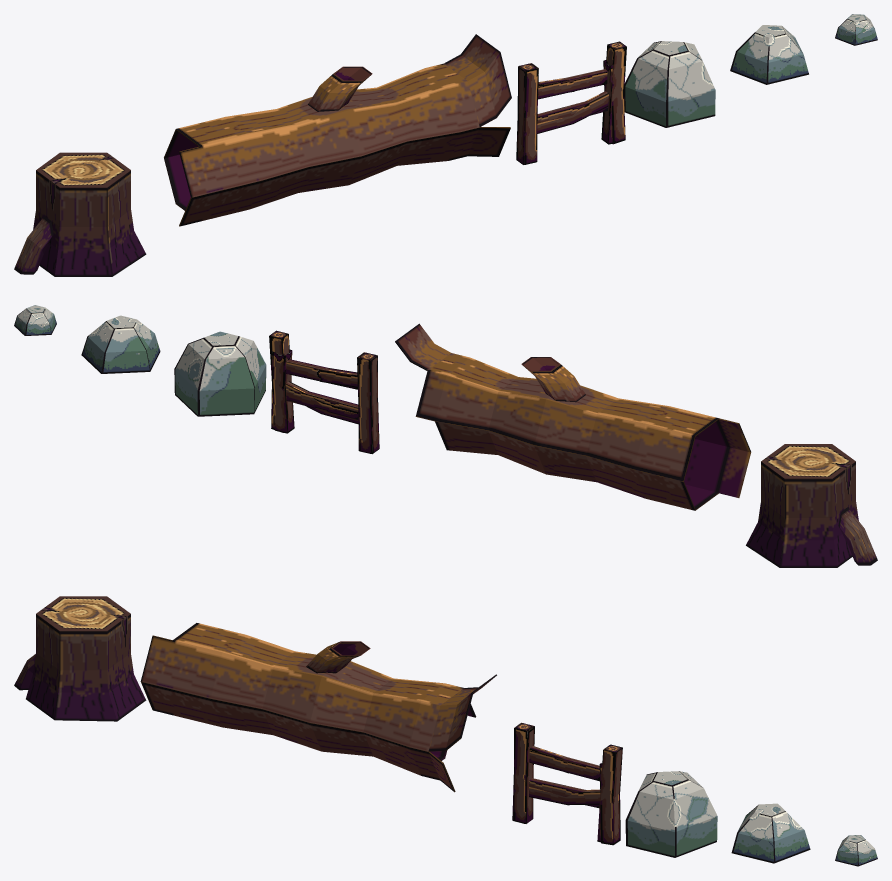
Rendered from AssetsPantano.fbx.
3 views of the same model, one above another, from view 1: azimuth 30°, elevation 25°; view 2: azimuth 150°, elevation 25°; view 3: azimuth 330°, elevation 25° (orthographic).
Visible parts, largest first — view 1: T 2.001, 1.001, R.B. Alta.001, Valla 3.002, R.B. Mediana.001, Valla muestra.001, R.B. Pequeña.001; view 2: T 2.001, 1.001, R.B. Alta.001, Valla 3.002, R.B. Mediana.001, Valla muestra.001, R.B. Pequeña.001; view 3: T 2.001, 1.001, R.B. Alta.001, Valla 3.002, R.B. Mediana.001, Valla muestra.001, R.B. Pequeña.001.
Part boxes in pixels (x1,y1,x2,y2): T 2.001: (164, 34, 511, 226); 1.001: (14, 152, 146, 276); R.B. Alta.001: (624, 41, 715, 127); Valla 3.002: (517, 41, 626, 164); R.B. Mediana.001: (730, 25, 808, 84); Valla muestra.001: (516, 60, 625, 164); R.B. Pequeña.001: (835, 14, 877, 45); T 2.001: (395, 323, 751, 510); 1.001: (746, 444, 877, 567); R.B. Alta.001: (174, 331, 266, 416); Valla 3.002: (269, 330, 377, 453); R.B. Mediana.001: (81, 315, 160, 373); Valla muestra.001: (271, 349, 379, 454); R.B. Pequeña.001: (14, 305, 56, 335); T 2.001: (140, 623, 496, 792); 1.001: (14, 596, 146, 721); R.B. Alta.001: (625, 771, 717, 857); Valla 3.002: (513, 722, 622, 842); R.B. Mediana.001: (731, 803, 810, 863); Valla muestra.001: (512, 723, 620, 845); R.B. Pequeña.001: (835, 835, 877, 866).
Size of the model in its own units: 867 by 125 by 110.
4 materials, 4 textured.
